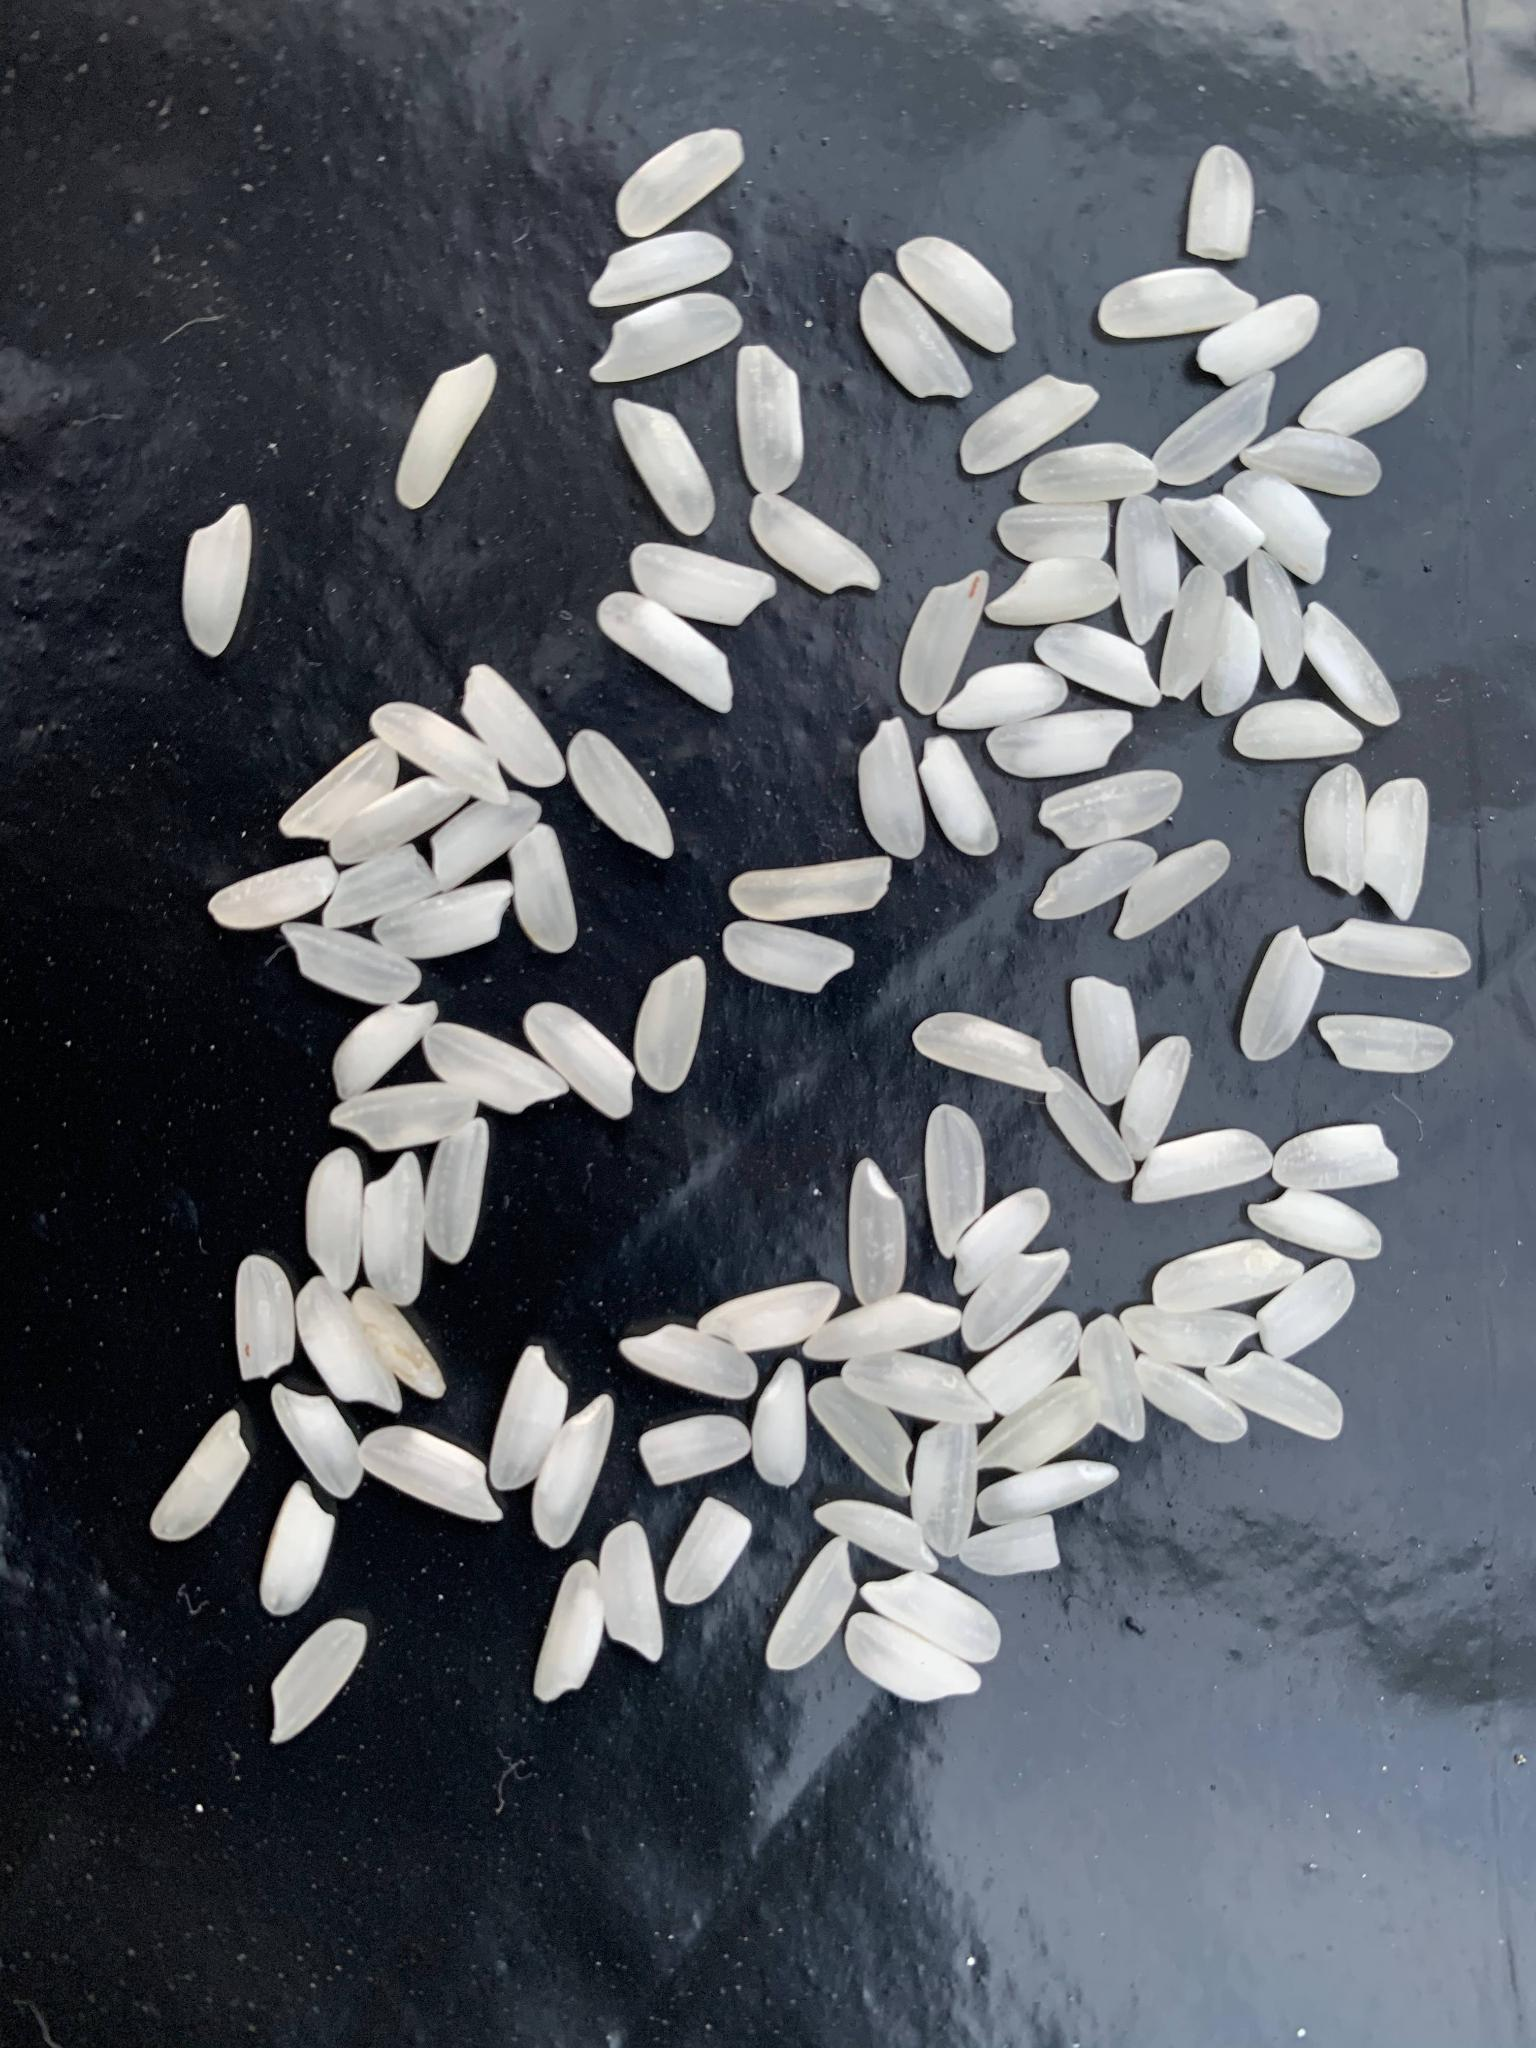rice: (597, 590, 733, 714), (395, 352, 497, 510), (295, 1276, 403, 1414), (858, 273, 975, 400), (371, 700, 511, 805), (357, 1422, 503, 1522), (615, 127, 745, 239), (958, 373, 1099, 476), (611, 397, 715, 535), (147, 1408, 253, 1542), (566, 729, 674, 860), (589, 292, 742, 384), (895, 237, 1016, 353), (1154, 369, 1275, 485), (424, 1022, 570, 1116), (529, 1392, 615, 1550), (524, 1000, 636, 1121), (750, 493, 883, 595), (808, 1376, 916, 1498), (858, 1571, 1002, 1663), (899, 571, 989, 716), (461, 663, 566, 787), (844, 1613, 983, 1705), (763, 1535, 857, 1671), (1204, 1351, 1344, 1442), (266, 1619, 366, 1743), (629, 542, 776, 626), (912, 1013, 1063, 1093), (329, 776, 470, 863), (975, 1377, 1099, 1476), (1304, 603, 1402, 727), (1225, 469, 1331, 584), (966, 1311, 1083, 1416), (278, 739, 399, 839), (371, 877, 513, 961), (281, 921, 423, 1005), (1113, 839, 1229, 940), (841, 1350, 995, 1426), (1239, 926, 1325, 1063), (1297, 347, 1428, 435), (490, 1345, 570, 1490), (1152, 1238, 1305, 1313), (181, 502, 253, 658), (1099, 269, 1258, 340), (800, 1292, 963, 1361), (1197, 295, 1320, 387), (1041, 769, 1183, 848), (432, 792, 544, 892), (729, 855, 892, 922), (269, 1382, 363, 1500), (1131, 1126, 1273, 1203), (962, 1250, 1070, 1351), (589, 231, 733, 306), (952, 1187, 1052, 1295), (1046, 1064, 1136, 1184), (331, 1079, 479, 1151), (350, 1285, 447, 1397), (620, 1322, 758, 1400), (258, 1480, 337, 1616), (695, 1282, 842, 1355), (332, 1001, 440, 1100), (1134, 1353, 1249, 1445), (531, 1559, 602, 1705), (1257, 1258, 1355, 1361), (636, 951, 707, 1093), (323, 842, 440, 927), (857, 716, 926, 860), (1239, 427, 1383, 497), (423, 1118, 490, 1264), (987, 710, 1134, 777), (208, 855, 339, 930), (1034, 839, 1157, 919), (737, 345, 803, 493), (918, 735, 999, 856), (665, 1496, 753, 1606), (1310, 918, 1471, 977), (976, 1459, 1121, 1526), (1247, 1190, 1381, 1261), (363, 1151, 424, 1306), (723, 921, 854, 993), (1070, 976, 1142, 1106), (1117, 495, 1179, 645), (815, 1500, 939, 1576), (508, 822, 579, 955), (1120, 1035, 1192, 1163), (925, 1105, 984, 1259), (1158, 566, 1226, 701), (984, 558, 1120, 626), (912, 1421, 978, 1559), (1367, 779, 1430, 921), (1273, 1121, 1397, 1192), (937, 663, 1068, 729), (849, 1159, 907, 1308), (602, 1521, 663, 1661), (1120, 1305, 1260, 1366), (1162, 497, 1267, 577), (1083, 1313, 1147, 1443), (639, 1413, 752, 1487), (1186, 145, 1257, 261), (1305, 763, 1367, 897), (307, 1148, 363, 1292), (1317, 1014, 1454, 1072), (1249, 548, 1304, 692), (234, 1255, 294, 1380), (1202, 598, 1262, 718), (997, 502, 1112, 563), (753, 1358, 805, 1487), (958, 1514, 1062, 1576)
